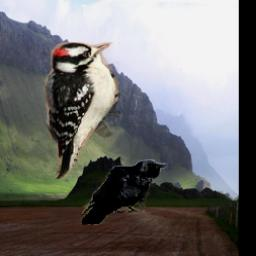Crow: (79, 159, 168, 225)
Woodpecker: (46, 43, 120, 180)
